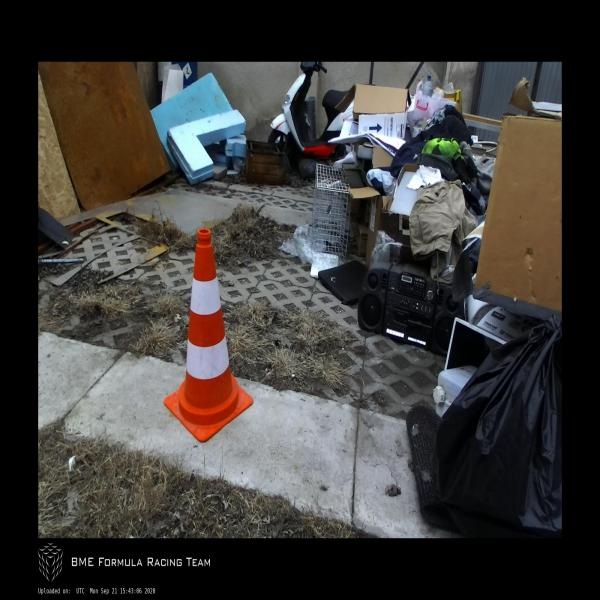large_orange_cone: (164, 228, 253, 442)
